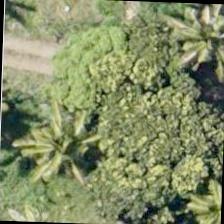Kelapa_Sawit: (16, 94, 108, 187), (159, 2, 223, 87), (167, 167, 223, 223)
